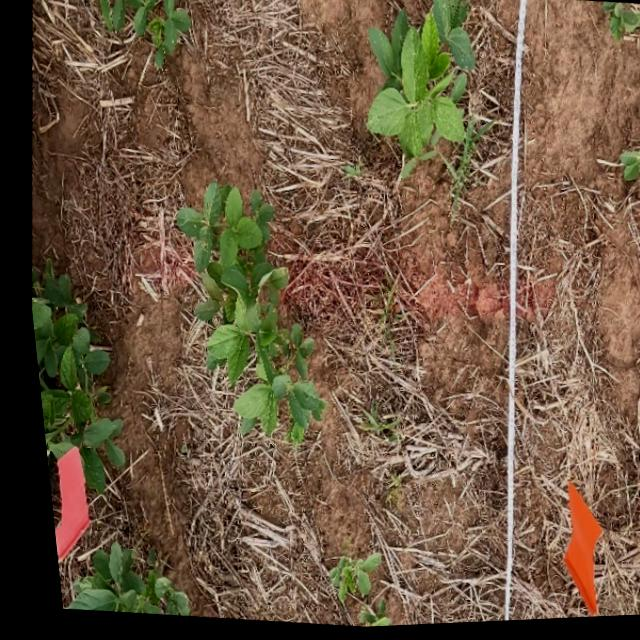grassy_weed: (449, 119, 488, 223), (347, 405, 390, 443), (372, 278, 394, 336)
soy_plant: (171, 184, 315, 443), (25, 261, 114, 492), (363, 0, 472, 180), (54, 543, 174, 616), (99, 0, 190, 68), (316, 556, 366, 603), (602, 7, 640, 46), (616, 150, 640, 185)
